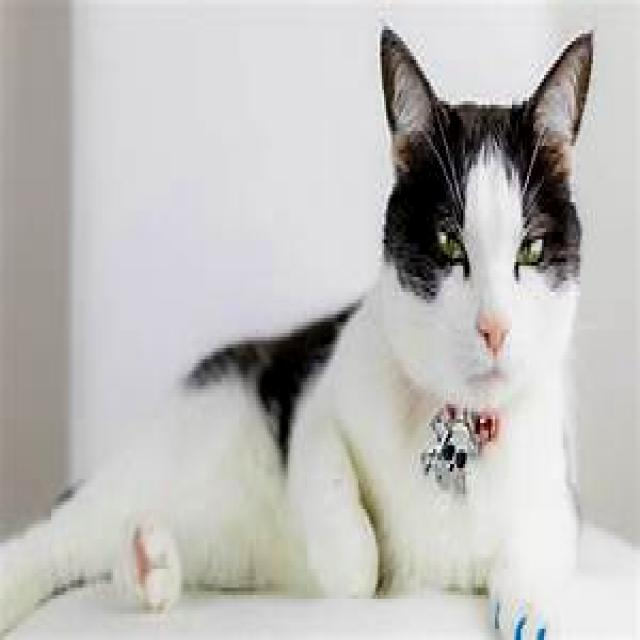KEDI: (0, 32, 595, 620)
